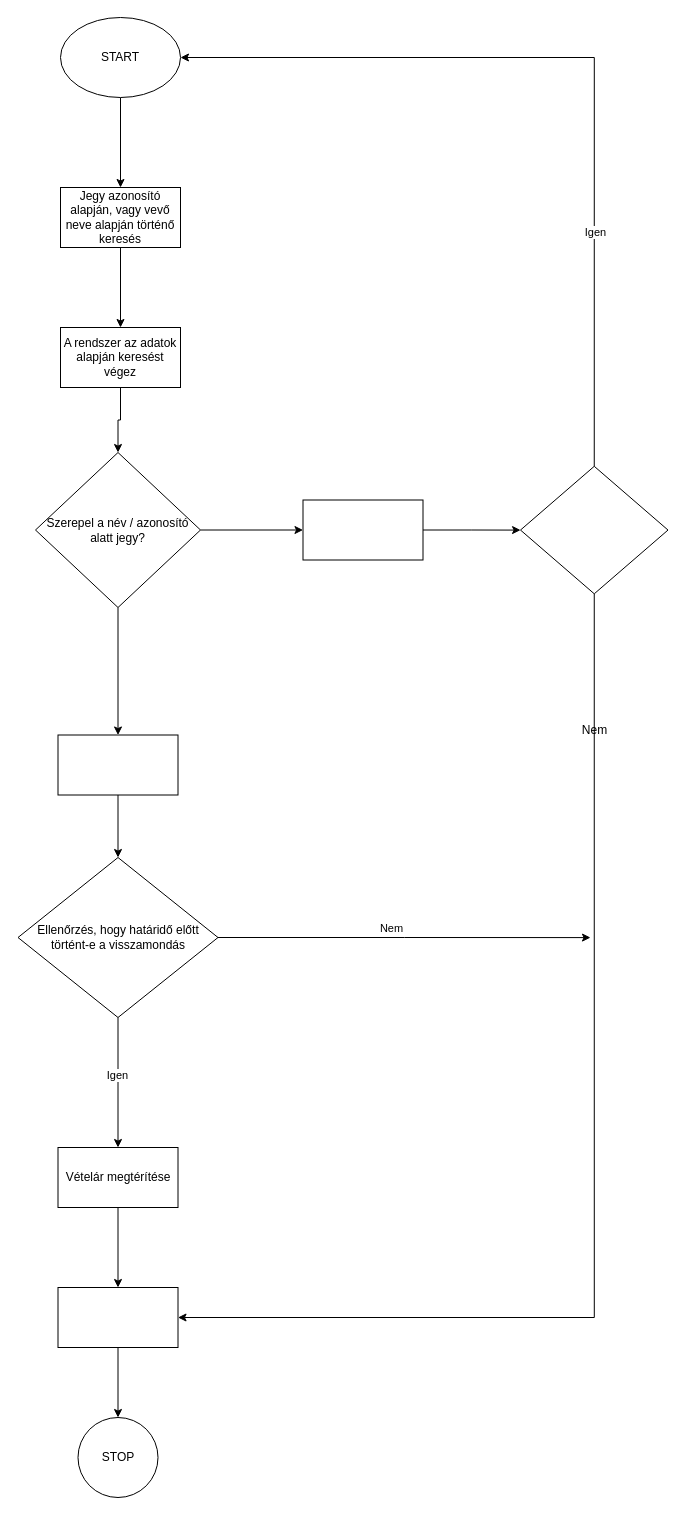
This 685x1515 diagram has some shape labels left out. The shapes that lost their labels are listed below. From the top down, each one's box as (x1, y1, x2, y2) in pixels, then its label:
(302, 499, 423, 560): Figyelmeztetés, hogy nincs egyezés a bevitt adatokkal
(520, 465, 668, 594): Újabb keresés, más kritériumokkal?
(57, 734, 178, 795): A vevő visszamondja a jegyet
(57, 1286, 178, 1348): Az ügy lezárása, tájékoztatás a lemondás sikerességéről
